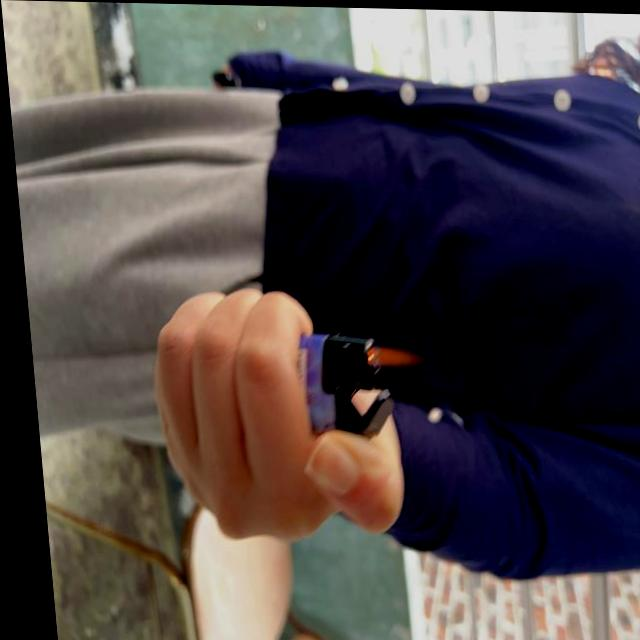Fire: (357, 341, 417, 371)
